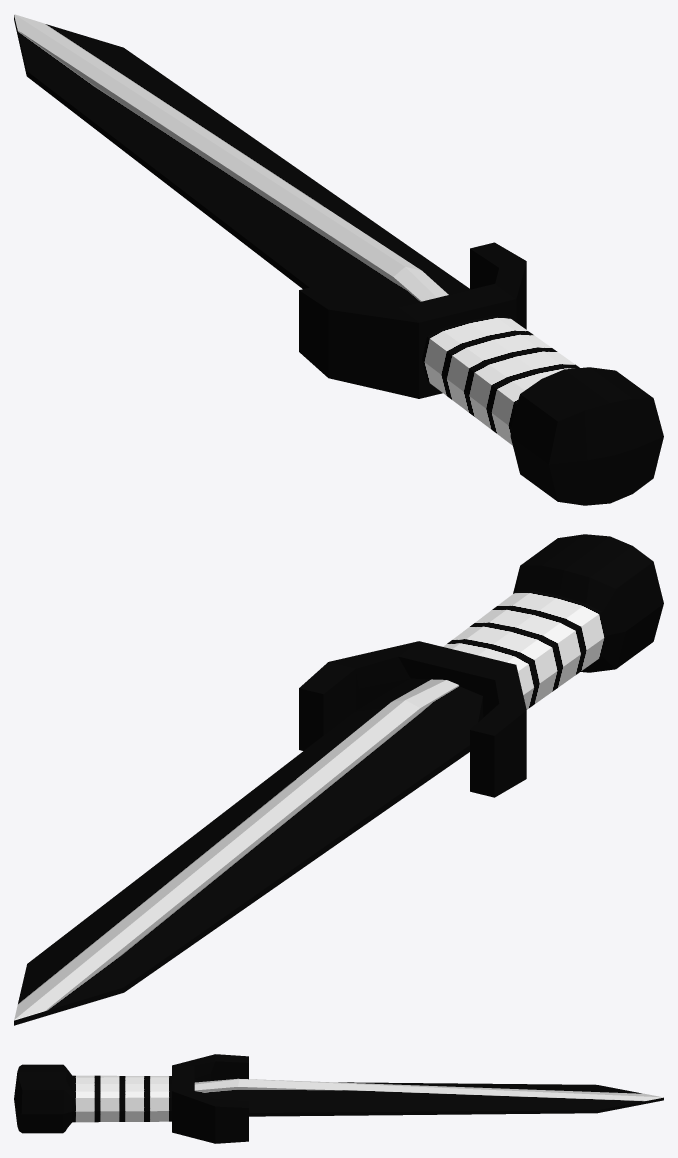
File: ChargedSword.fbx
3 renders of one model, top to bottom at view 1: azimuth 30°, elevation 25°; view 2: azimuth 150°, elevation 25°; view 3: azimuth 270°, elevation 25°, orthographic. The views are drawn at different scales.
Parts seen in each view (by area): view 1: Cube, Cube.001; view 2: Cube, Cube.001; view 3: Cube, Cube.001.
Part boxes in pixels (x1,y1,x2,y2): Cube: (14, 14, 663, 505); Cube.001: (14, 14, 448, 301); Cube: (14, 534, 663, 1025); Cube.001: (14, 679, 458, 1019); Cube: (14, 1054, 663, 1143); Cube.001: (194, 1078, 662, 1100).
Size of the model in its own units: 186 by 90 by 975.
